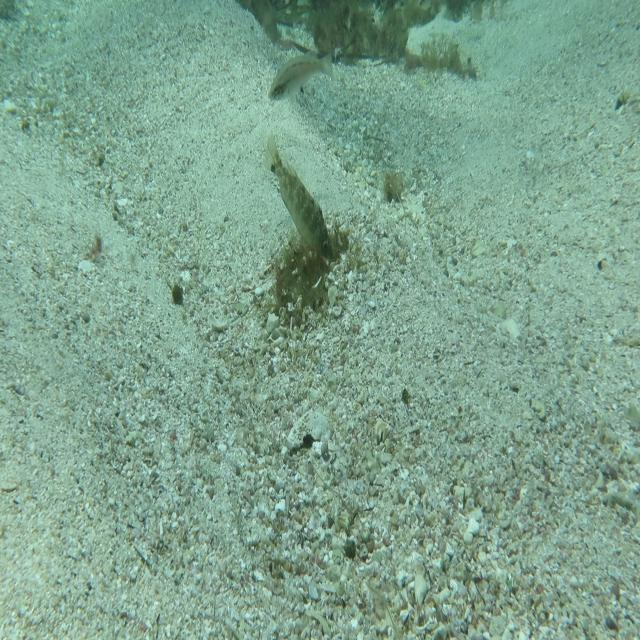NIP_CORE: (258, 131, 340, 268)
female: (262, 52, 342, 107)
nest: (260, 226, 354, 334)
vegetation: (248, 0, 495, 23), (272, 24, 420, 57), (384, 170, 404, 208)
